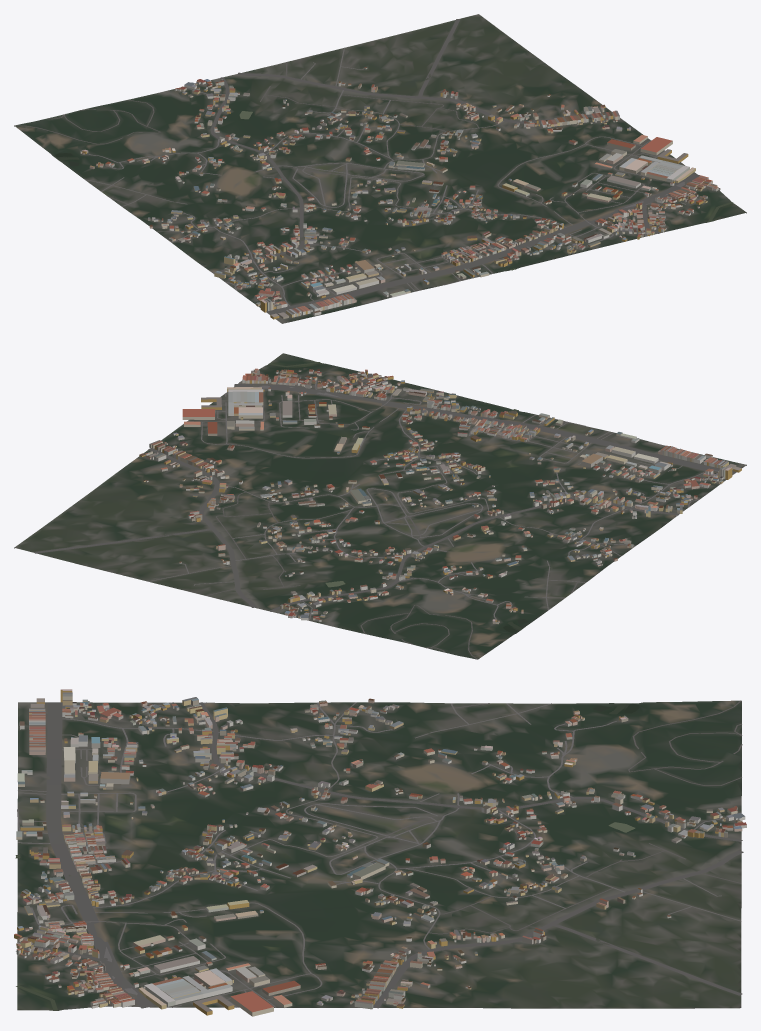
The picture shows the model from 3 angles, top to bottom: view 1: azimuth 30°, elevation 25°; view 2: azimuth 150°, elevation 25°; view 3: azimuth 270°, elevation 25°; orthographic projection. The views are drawn at different scales.
Parts seen in each view (by area): view 1: ground, buildings, roads; view 2: ground, buildings, roads; view 3: ground, buildings, roads, water.
Boxes of the visible parts, x1,y1,x2,y2 form: ground: [14, 14, 746, 323]; buildings: [80, 67, 720, 319]; roads: [14, 19, 700, 314]; ground: [14, 353, 746, 659]; buildings: [139, 368, 741, 624]; roads: [34, 373, 735, 659]; ground: [17, 700, 741, 1010]; buildings: [14, 689, 746, 1016]; roads: [16, 700, 743, 1008]; water: [15, 703, 639, 1010].
Size of the model in its own units: 1444 by 35.97 by 1419.
